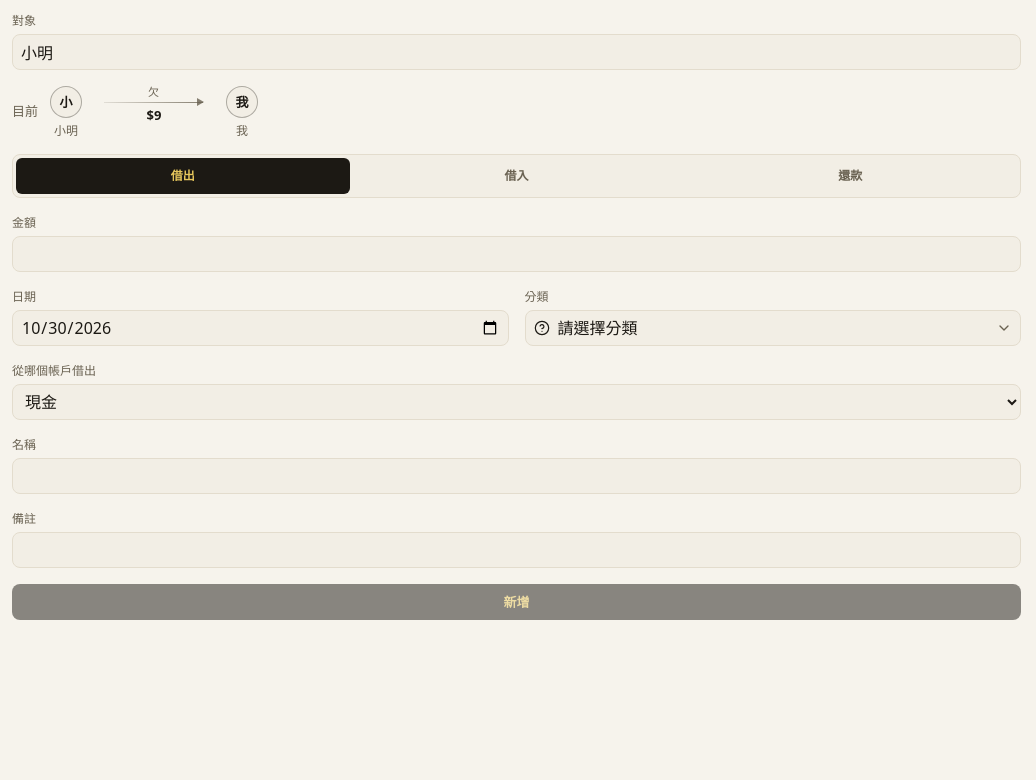
Test: DebtEntryForm › returns to lend when a repayment target changes to a new or settled counterparty
Click the button "還款" at (850, 176), box x1=683 y1=158 x2=1017 y2=194
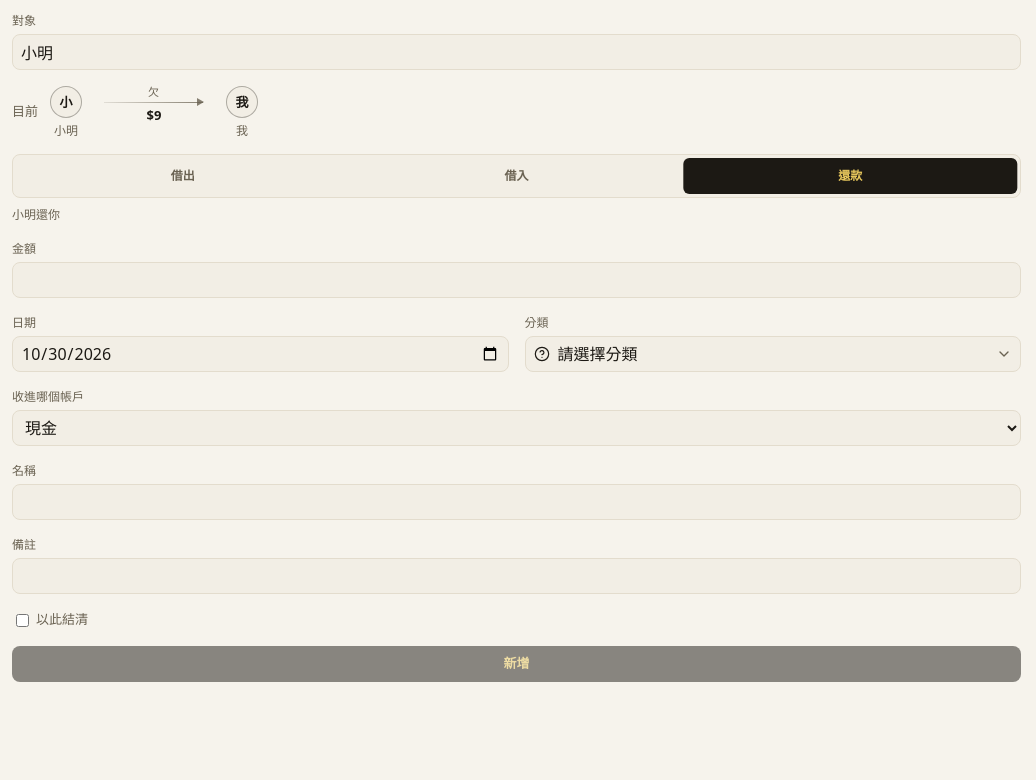
Replace the text in the dropdown labelled "對象" with "小新" at (516, 52), box x1=12 y1=34 x2=1021 y2=70
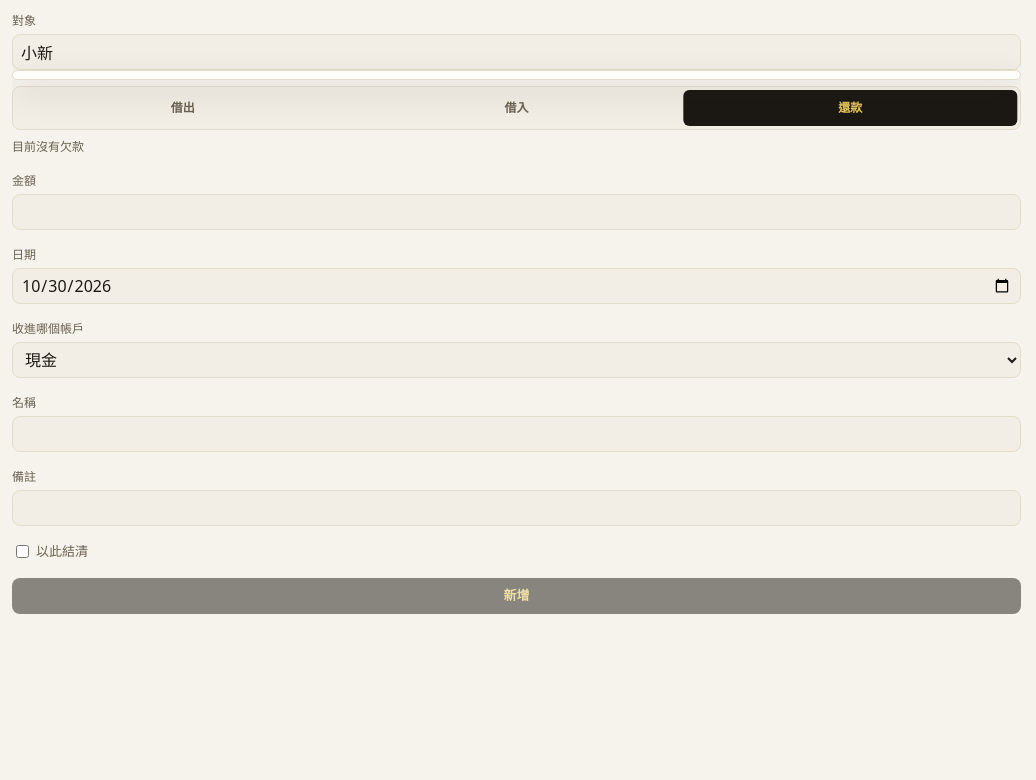
Leave the dropdown labelled "對象", box x1=12 y1=34 x2=1021 y2=70
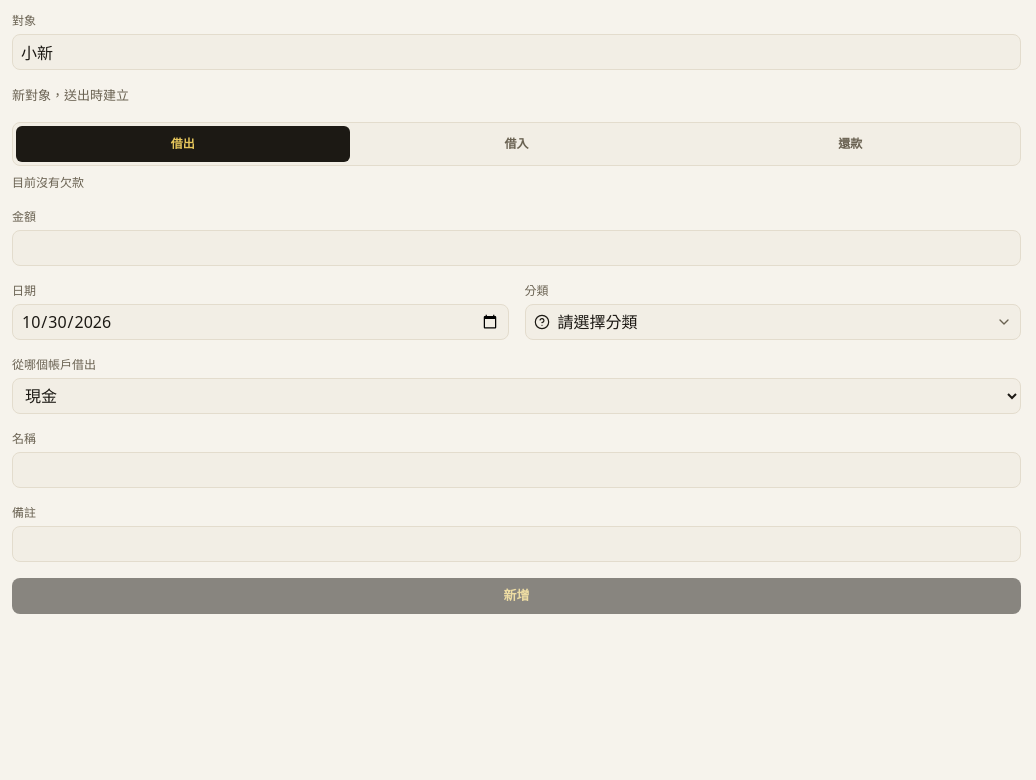
Now the button "還款" is disabled, box x1=683 y1=126 x2=1017 y2=162
Now the text "新對象，送出時建立" is shown, box x1=12 y1=86 x2=129 y2=104
Replace the text in the dropdown labelled "對象" with "小美" at (516, 52), box x1=12 y1=34 x2=1021 y2=70
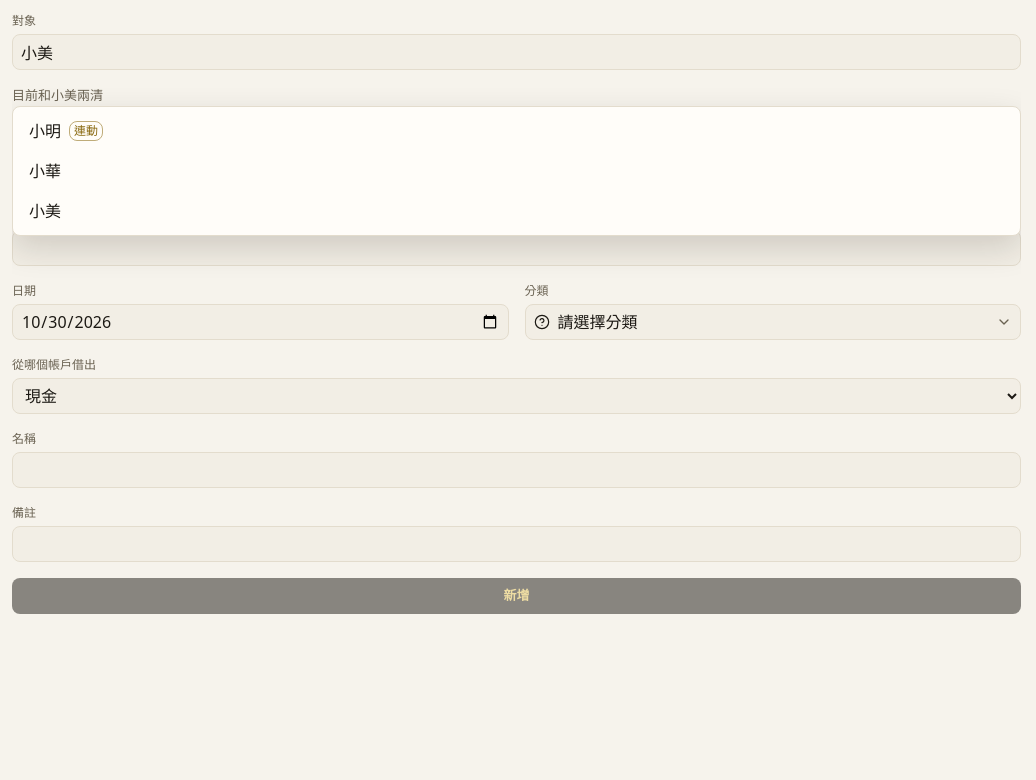
Now the text "目前和小美兩清" is shown, box x1=12 y1=86 x2=103 y2=104
